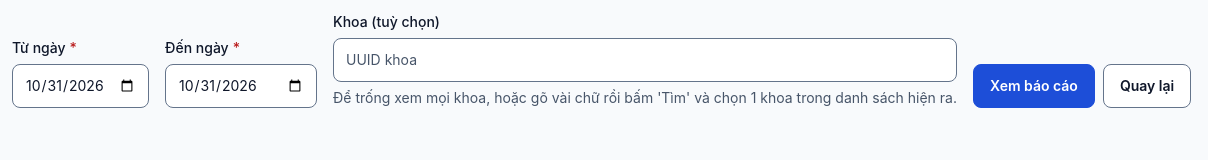
it: RevenueReport › requires both dates before issuing a request
The width and height of the screenshot is (1208, 160).
Step 1. Clear the date field labelled "Từ ngày" → (80, 86), box [12,64,149,108]
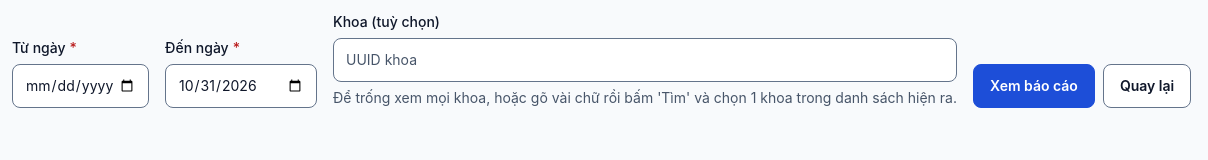
Step 2. Click the button "Xem báo cáo" → (1034, 86), box [973,64,1095,108]
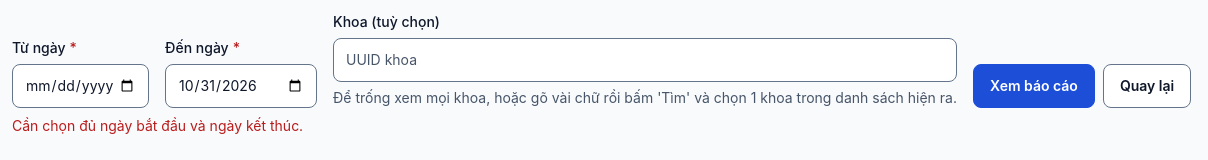
Expected: the message reads "Cần chọn đủ ngày bắt đầu và ngày kết thúc.", [12,117,303,134]
